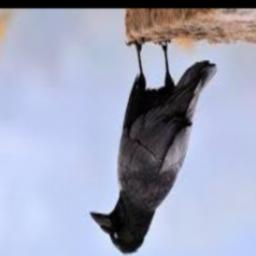Crow: (89, 38, 217, 256)
